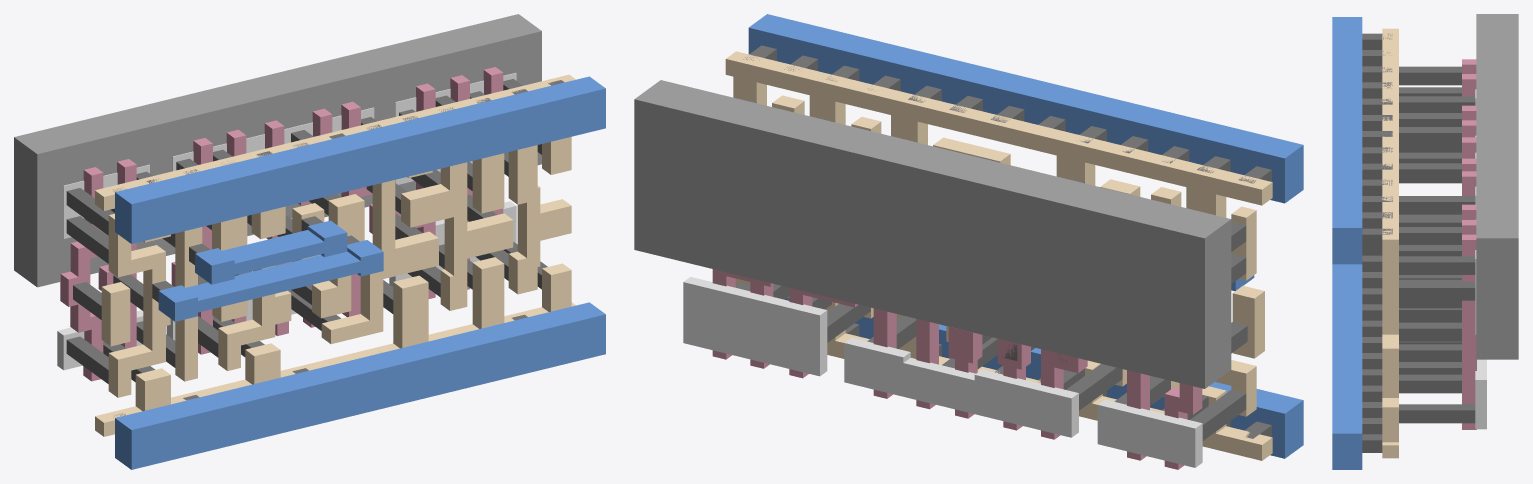
The model's file is sky130_fd_sc_hd__dlxtn_2.gds.gltf.
3 renders of one model, left to right at view 1: azimuth 30°, elevation 25°; view 2: azimuth 150°, elevation 25°; view 3: azimuth 270°, elevation 25°, orthographic. The views are drawn at different scales.
Visible parts, largest first — view 1: sky130_fd_sc_hd__dlxtn_2_met1, sky130_fd_sc_hd__dlxtn_2_li1, sky130_fd_sc_hd__dlxtn_2_nwell, sky130_fd_sc_hd__dlxtn_2_licon, sky130_fd_sc_hd__dlxtn_2_poly, sky130_fd_sc_hd__dlxtn_2_diff, sky130_fd_sc_hd__dlxtn_2_mcon; view 2: sky130_fd_sc_hd__dlxtn_2_nwell, sky130_fd_sc_hd__dlxtn_2_li1, sky130_fd_sc_hd__dlxtn_2_met1, sky130_fd_sc_hd__dlxtn_2_diff, sky130_fd_sc_hd__dlxtn_2_poly, sky130_fd_sc_hd__dlxtn_2_licon, sky130_fd_sc_hd__dlxtn_2_mcon; view 3: sky130_fd_sc_hd__dlxtn_2_licon, sky130_fd_sc_hd__dlxtn_2_nwell, sky130_fd_sc_hd__dlxtn_2_met1, sky130_fd_sc_hd__dlxtn_2_mcon, sky130_fd_sc_hd__dlxtn_2_li1, sky130_fd_sc_hd__dlxtn_2_poly, sky130_fd_sc_hd__dlxtn_2_diff.
Part boxes in pixels (x1=…): sky130_fd_sc_hd__dlxtn_2_met1: x1=115, y1=76, x2=605, y2=469; sky130_fd_sc_hd__dlxtn_2_li1: x1=95, y1=74, x2=575, y2=436; sky130_fd_sc_hd__dlxtn_2_nwell: x1=14, y1=14, x2=541, y2=287; sky130_fd_sc_hd__dlxtn_2_licon: x1=66, y1=79, x2=547, y2=383; sky130_fd_sc_hd__dlxtn_2_poly: x1=60, y1=67, x2=503, y2=381; sky130_fd_sc_hd__dlxtn_2_diff: x1=57, y1=73, x2=516, y2=370; sky130_fd_sc_hd__dlxtn_2_mcon: x1=112, y1=80, x2=564, y2=417; sky130_fd_sc_hd__dlxtn_2_nwell: x1=634, y1=80, x2=1231, y2=388; sky130_fd_sc_hd__dlxtn_2_li1: x1=725, y1=51, x2=1272, y2=460; sky130_fd_sc_hd__dlxtn_2_met1: x1=748, y1=14, x2=1303, y2=458; sky130_fd_sc_hd__dlxtn_2_diff: x1=683, y1=277, x2=1202, y2=467; sky130_fd_sc_hd__dlxtn_2_poly: x1=712, y1=269, x2=1202, y2=469; sky130_fd_sc_hd__dlxtn_2_licon: x1=735, y1=98, x2=1247, y2=440; sky130_fd_sc_hd__dlxtn_2_mcon: x1=743, y1=45, x2=1271, y2=438; sky130_fd_sc_hd__dlxtn_2_licon: x1=1399, y1=66, x2=1475, y2=423; sky130_fd_sc_hd__dlxtn_2_nwell: x1=1476, y1=14, x2=1518, y2=359; sky130_fd_sc_hd__dlxtn_2_met1: x1=1332, y1=17, x2=1362, y2=469; sky130_fd_sc_hd__dlxtn_2_mcon: x1=1362, y1=33, x2=1392, y2=452; sky130_fd_sc_hd__dlxtn_2_li1: x1=1382, y1=28, x2=1398, y2=458; sky130_fd_sc_hd__dlxtn_2_poly: x1=1462, y1=59, x2=1476, y2=429; sky130_fd_sc_hd__dlxtn_2_diff: x1=1475, y1=89, x2=1486, y2=429.
Bounding box in the file's own units: 6.36 × 3.2 × 2.24.
